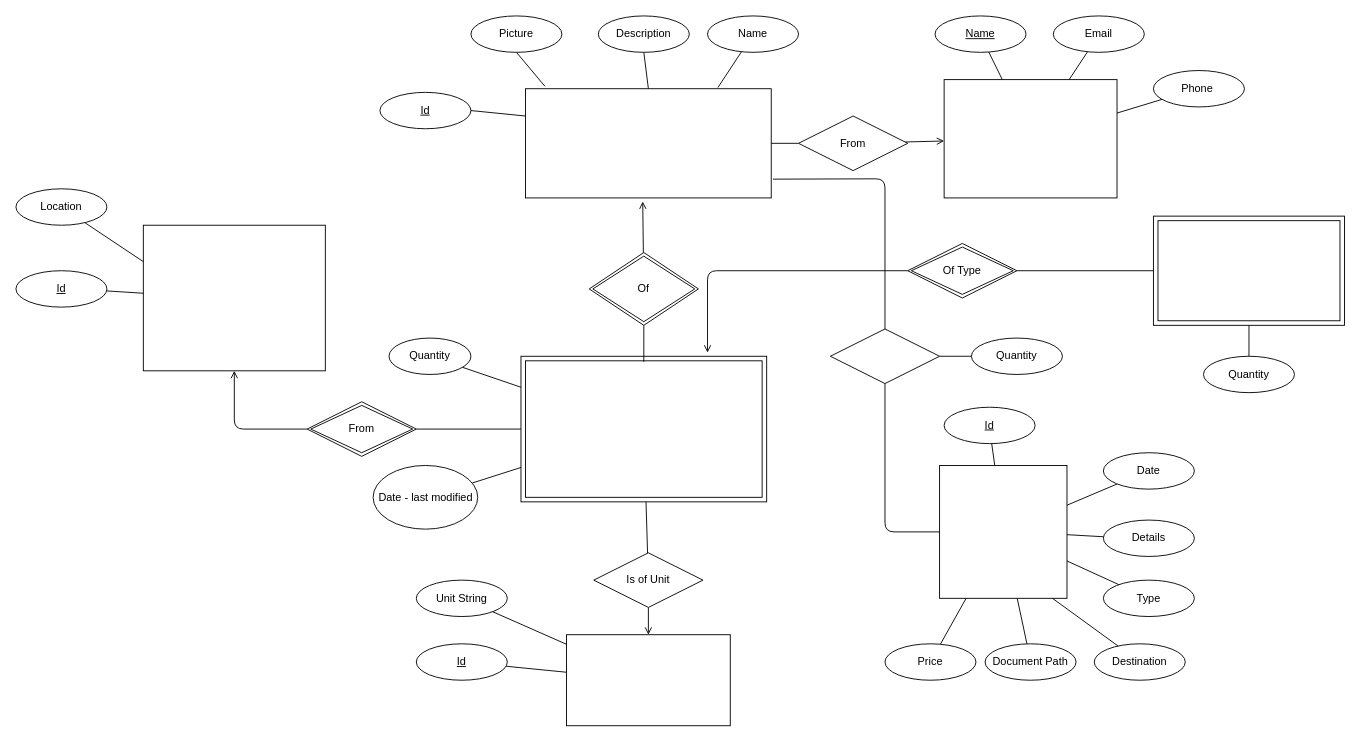
Image size: 1360x742. Some labels were removed from this diagram. Each missing label, with the box of its shape:
Inventory: (520, 355, 767, 502)
Materials: (525, 88, 771, 198)
Minimal Quantities: (1153, 215, 1345, 325)
Of Materials: (829, 328, 940, 384)
Supplyers: (943, 79, 1117, 198)
Transaction History: (939, 465, 1067, 598)
Units: (566, 634, 730, 726)
Warehouse: (142, 224, 325, 371)
